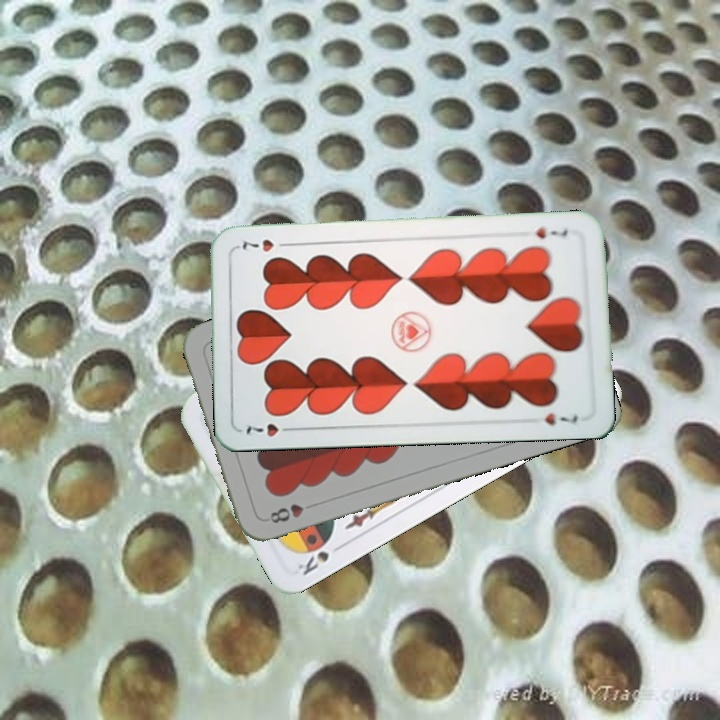H7: (242, 419, 298, 440), (532, 223, 571, 242)
H8: (262, 499, 306, 526)
SK: (293, 547, 332, 578)
